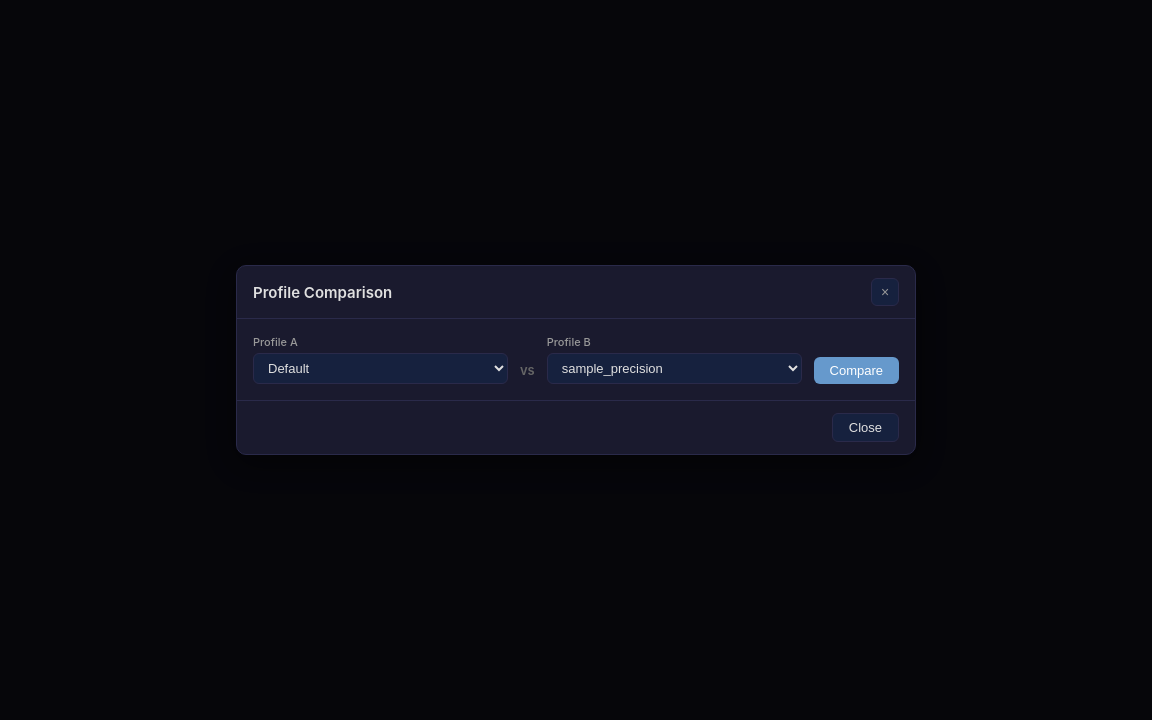
Test: ProfileCompareModal › enforces different profile selection and renders comparison table/bars
This screenshot has width=1152, height=720.
Select "Default" in the dropdown below "Profile B". click: (674, 368)
box: [547,353,802,384]
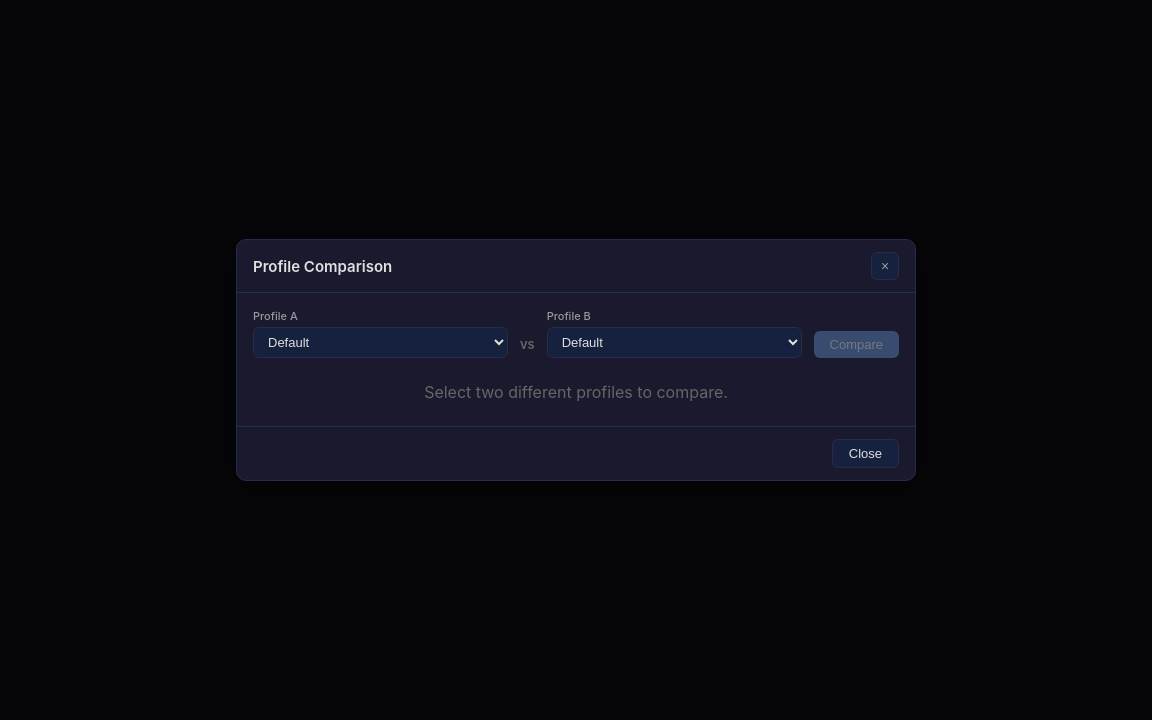
Now the text "Select two different profiles to compare." is shown, box [424,382,728,402]
Now the button "Compare" is disabled, box [814,331,899,358]
Select "budget_shop" in the dropdown below "Profile B". click: (674, 342)
box: [547,327,802,358]
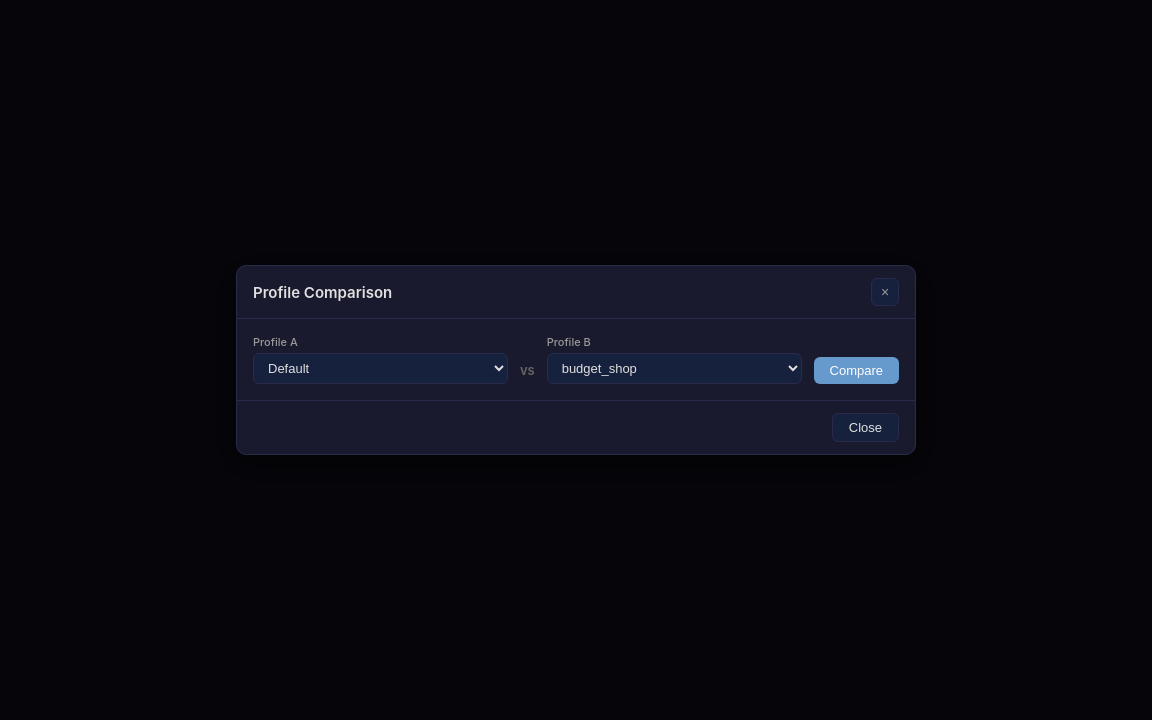
Click the button "Compare". click: click(856, 370)
box: [814,357,899,384]
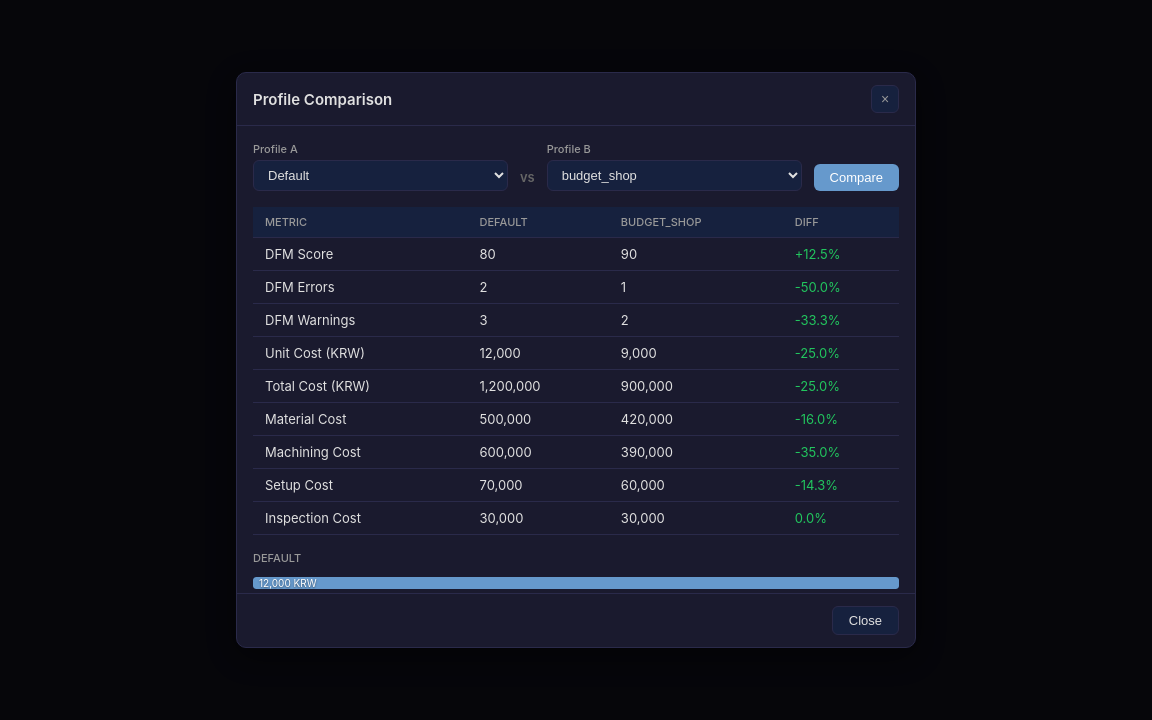
Now the column heading "Metric" is shown, box [253,207,468,238]
Now the text "DFM Score" is shown, box [253,238,468,270]
Now the text "+12.5%" is shown, box [783,238,899,270]
